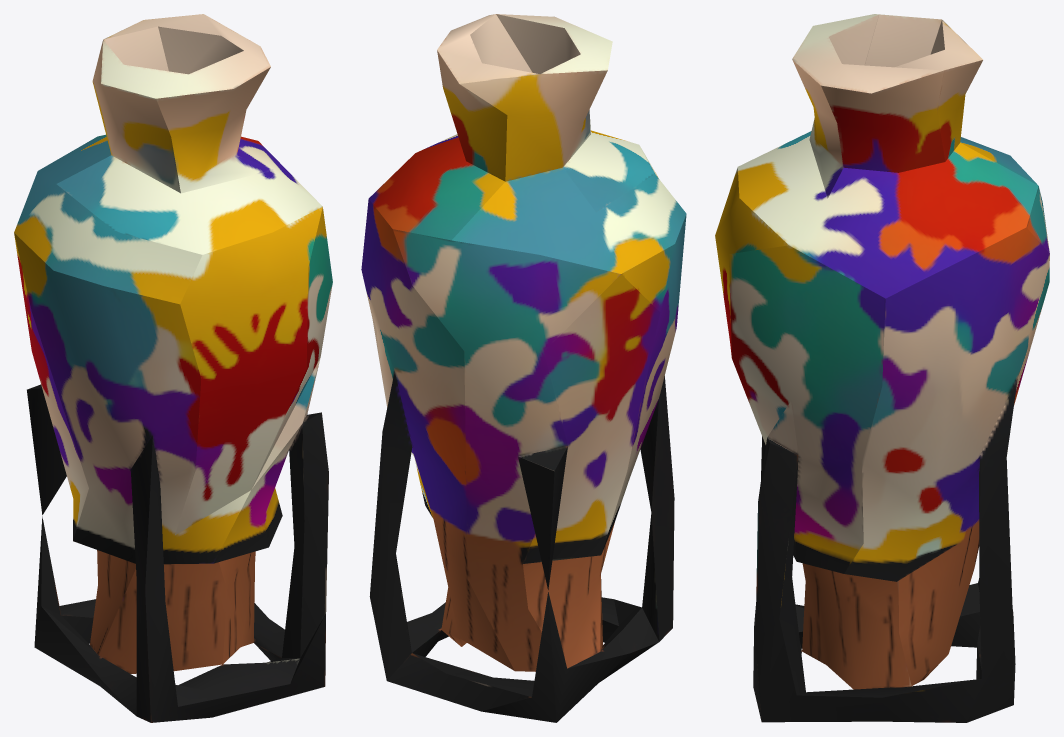
File: brickloft-paint-vase.glb
The picture shows the model from 3 angles, left to right: view 1: azimuth 30°, elevation 25°; view 2: azimuth 150°, elevation 25°; view 3: azimuth 270°, elevation 25°; orthographic projection. The views are drawn at different scales.
Visible parts, largest first — view 1: geometry_0; view 2: geometry_0; view 3: geometry_0.
Part boxes in pixels (x1,y1,x2,y2): geometry_0: [14, 14, 332, 722]; geometry_0: [361, 14, 686, 722]; geometry_0: [715, 14, 1049, 722].
Bounding box in the file's own units: 0.4665 × 1 × 0.4724.
1 material, 1 textured.
